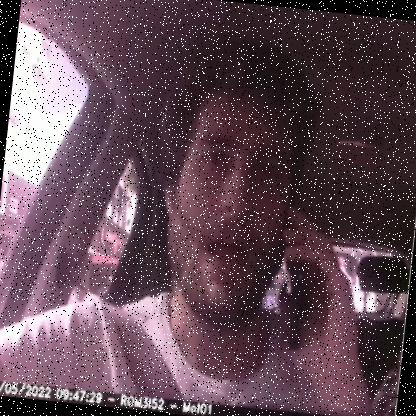phone: (265, 206, 337, 359)
